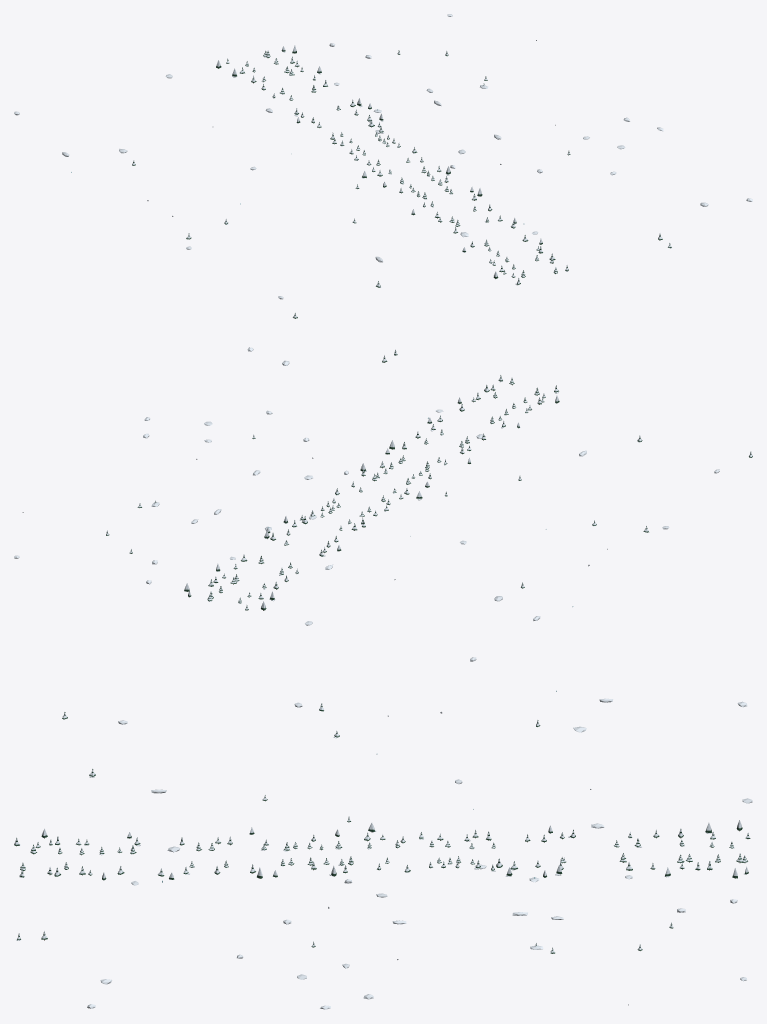
The model's file is Fill_-2_-4.fbx.
3 renders of one model, top to bottom at view 1: azimuth 30°, elevation 25°; view 2: azimuth 150°, elevation 25°; view 3: azimuth 270°, elevation 25°, orthographic. The views are drawn at different scales.
Visible parts, largest first — view 1: Fill_-2_-4; view 2: Fill_-2_-4; view 3: Fill_-2_-4.
Boxes of the visible parts, <box> form: Fill_-2_-4: <box>14,14,752,318</box>; Fill_-2_-4: <box>14,347,752,661</box>; Fill_-2_-4: <box>14,690,752,1009</box>.
Bounding box in the file's own units: 57744 × 1968 × 59184.
